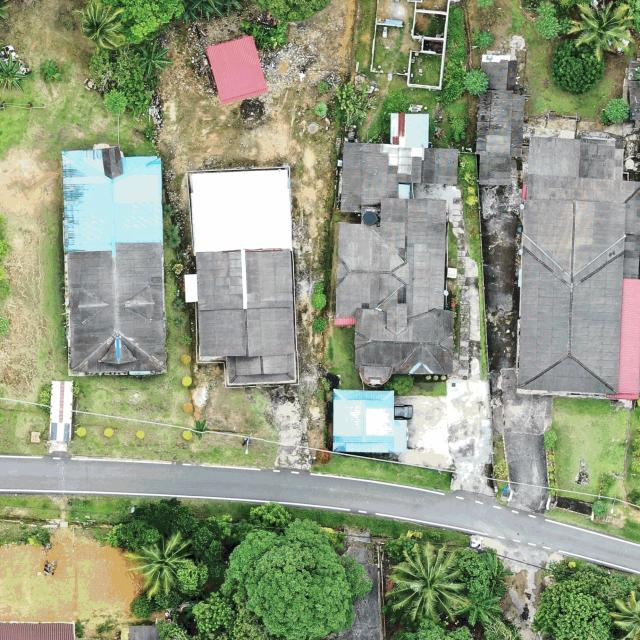Tree: (225, 516, 372, 640), (133, 498, 224, 595), (384, 541, 466, 625), (533, 561, 610, 640), (190, 591, 312, 640), (125, 532, 192, 600), (564, 0, 631, 63), (71, 0, 126, 51), (88, 47, 145, 96), (554, 39, 604, 94), (382, 618, 484, 640), (105, 520, 162, 554), (608, 590, 640, 640), (454, 592, 502, 625), (135, 41, 173, 76), (0, 52, 31, 94), (250, 501, 291, 530), (534, 0, 562, 39), (484, 619, 531, 640), (483, 549, 513, 579), (126, 90, 156, 120), (600, 96, 631, 125), (463, 66, 490, 96), (383, 372, 415, 396), (469, 26, 495, 53), (310, 282, 329, 310), (40, 58, 61, 83), (624, 0, 639, 31), (190, 418, 211, 440), (493, 460, 511, 478), (310, 316, 328, 334), (634, 59, 640, 87)
